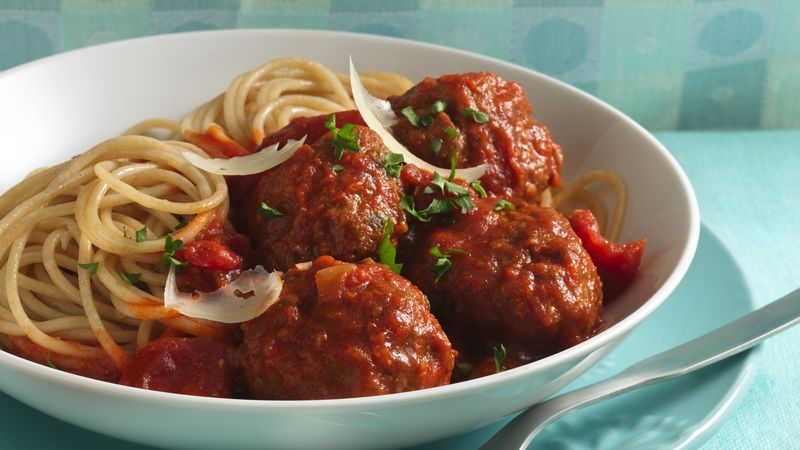meatballs: (244, 262, 446, 393), (421, 193, 596, 337), (399, 71, 554, 209), (244, 128, 398, 260)
plain spaghetti: (2, 139, 229, 372), (204, 57, 410, 144)
